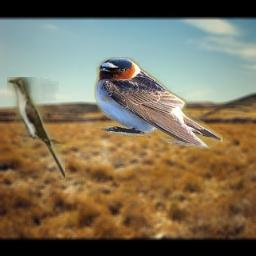Cuckoo: (7, 77, 65, 178)
Swallow: (94, 57, 223, 150)
